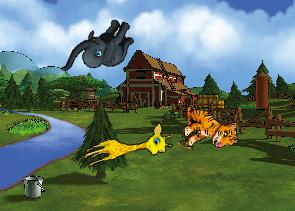elephant: (60, 5, 139, 91)
giraffe: (80, 120, 175, 178)
tiger: (181, 102, 238, 151)
